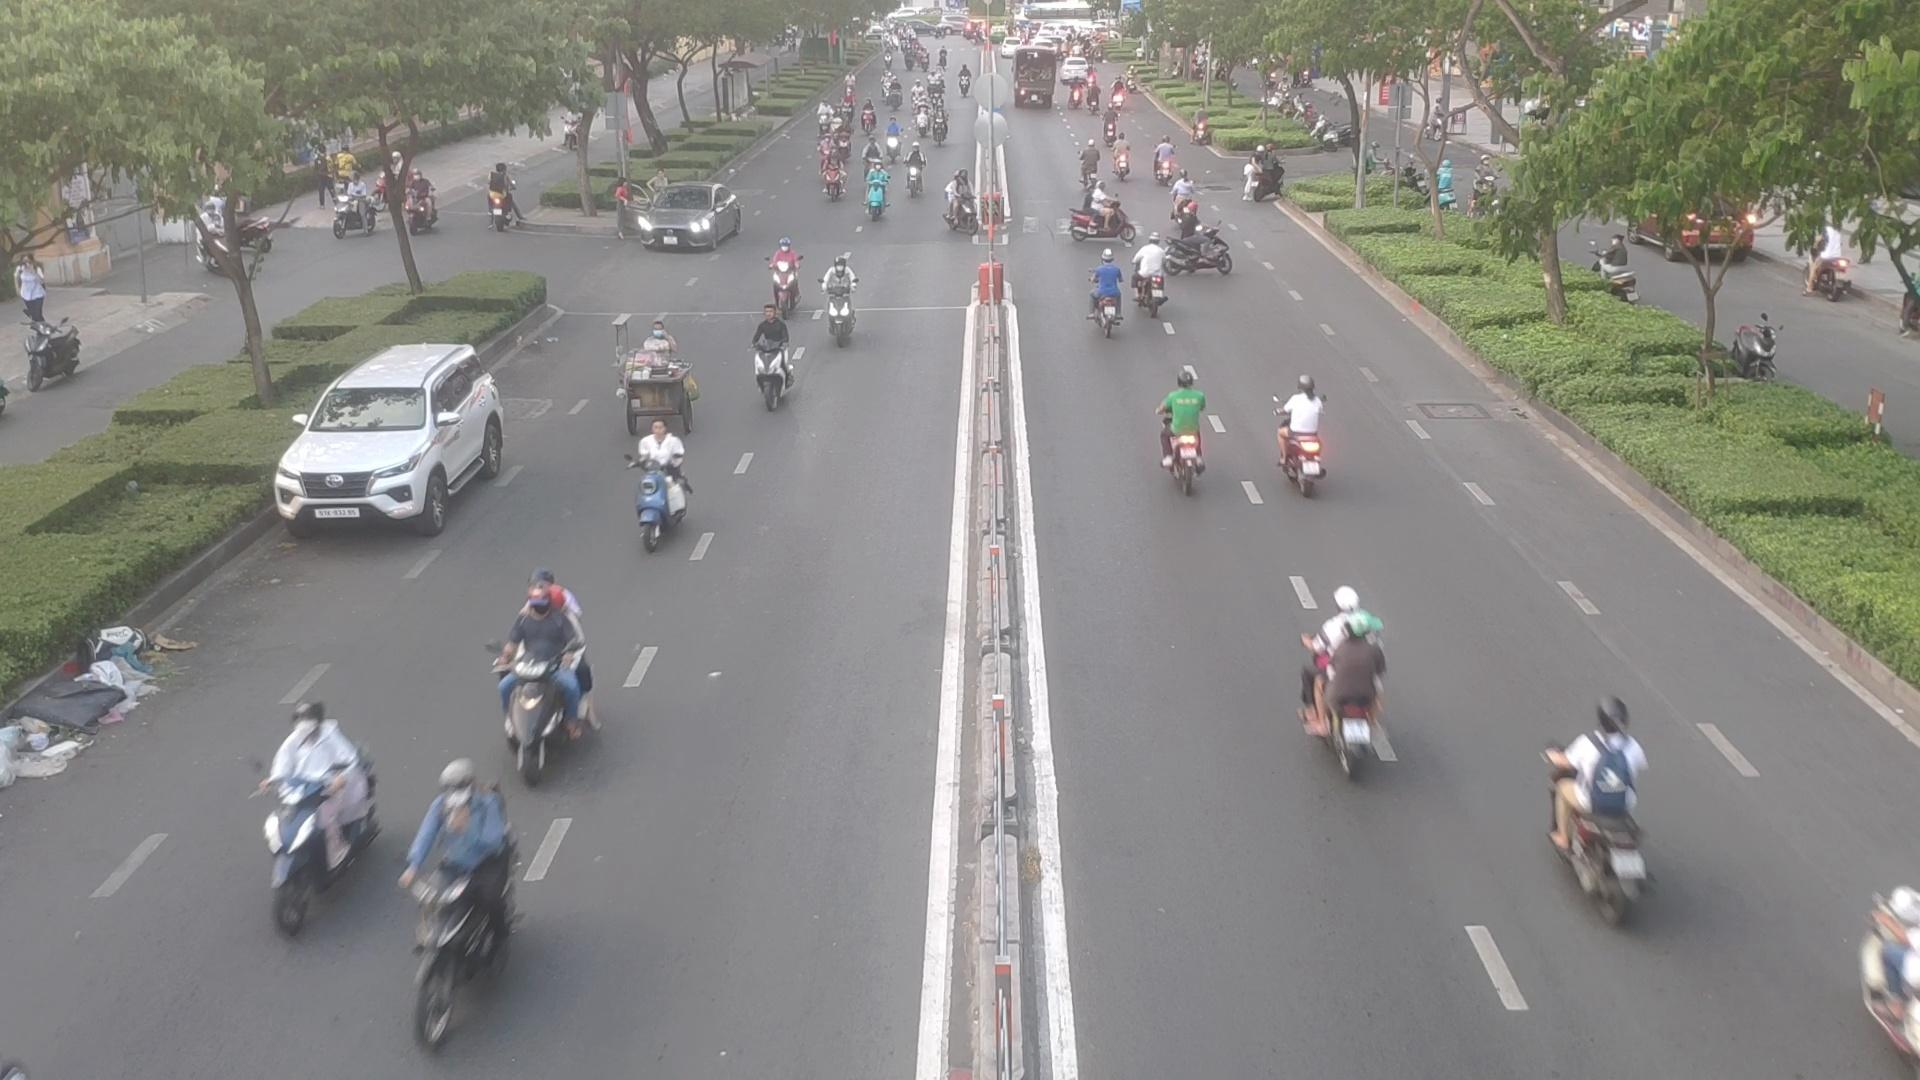car: (280, 340, 518, 527), (622, 189, 756, 256)
motorbike: (255, 707, 382, 934), (407, 777, 531, 996), (1553, 709, 1673, 918), (1284, 589, 1396, 774), (502, 583, 613, 765), (1859, 873, 1920, 1069), (1143, 371, 1213, 488), (624, 425, 695, 539), (1271, 378, 1332, 487), (750, 309, 811, 407), (814, 258, 869, 347), (1175, 218, 1240, 276), (1080, 258, 1126, 339), (1065, 193, 1134, 247), (762, 236, 811, 305)
